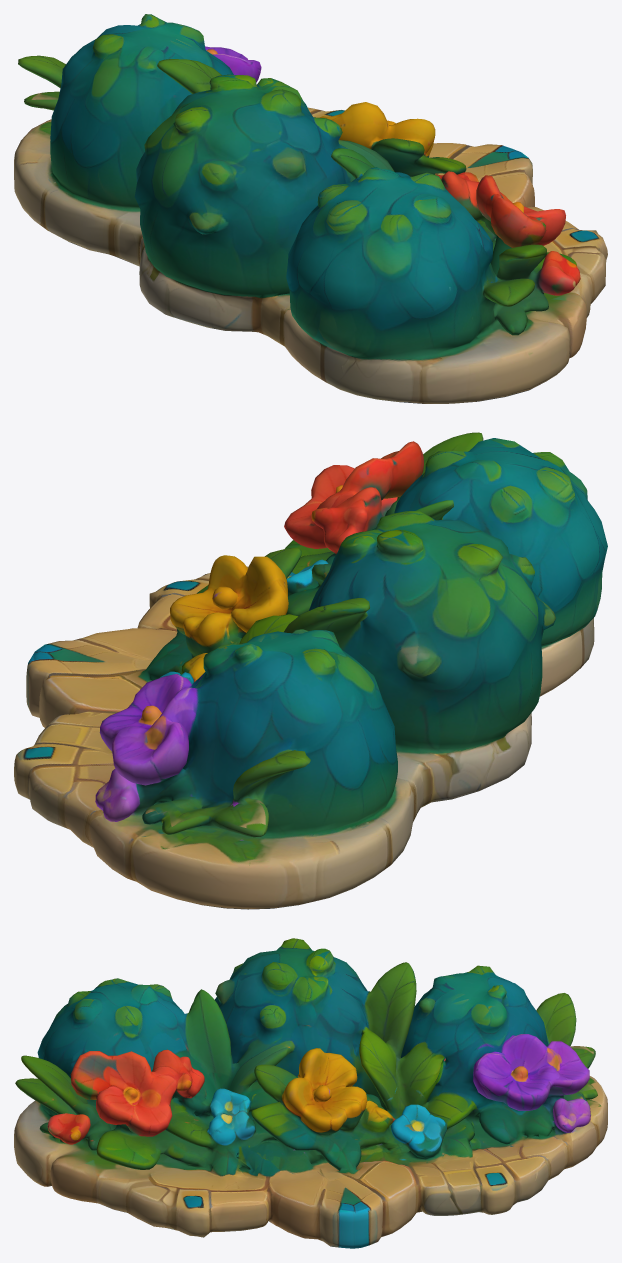
Rendered from 11-garden-flower-bush-cluster.glb.
3 views of the same model, one above another, from view 1: azimuth 30°, elevation 25°; view 2: azimuth 150°, elevation 25°; view 3: azimuth 270°, elevation 25° (orthographic). The views are drawn at different scales.
Visible parts, largest first — view 1: tripo_node_3c92e4a3; view 2: tripo_node_3c92e4a3; view 3: tripo_node_3c92e4a3.
Boxes of the visible parts, x1,y1,x2,y2 form: tripo_node_3c92e4a3: (14, 14, 607, 403); tripo_node_3c92e4a3: (14, 432, 607, 909); tripo_node_3c92e4a3: (14, 938, 607, 1248).
Bounding box in the file's own units: 0.6135 × 0.3 × 0.9382.
1 material, 1 textured.
